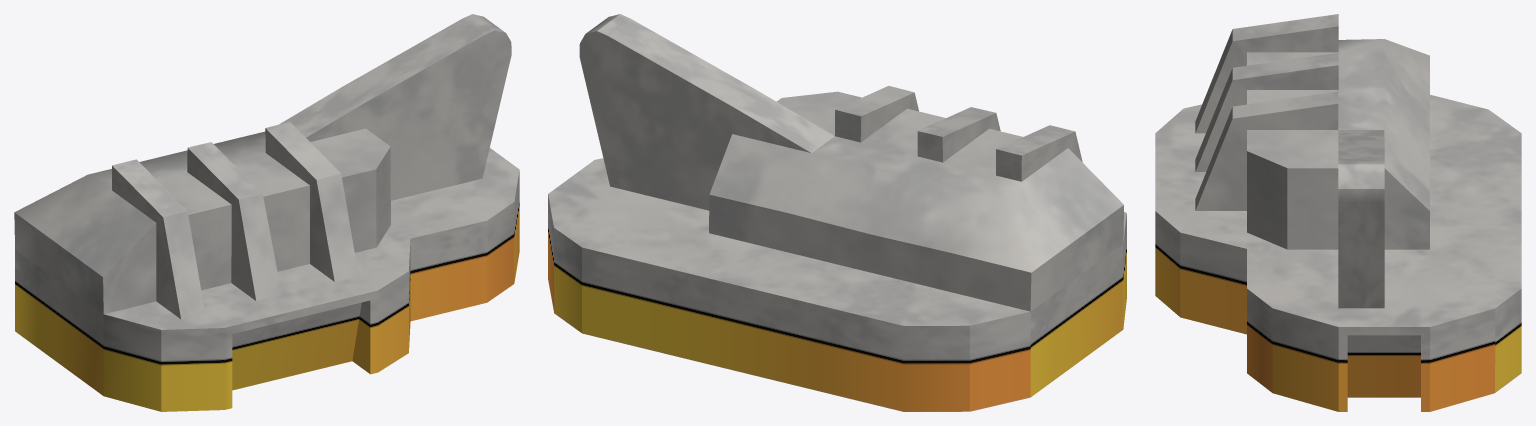
Rendered from Command.fbx.
3 views of the same model, side by side, from view 1: azimuth 30°, elevation 25°; view 2: azimuth 150°, elevation 25°; view 3: azimuth 270°, elevation 25° (orthographic). The views are drawn at different scales.
Parts seen in each view (by area): view 1: Command; view 2: Command; view 3: Command.
Boxes of the visible parts, x1,y1,x2,y2 form: Command: [14, 14, 519, 411]; Command: [548, 14, 1126, 411]; Command: [1155, 14, 1521, 411].
Bounding box in the file's own units: 53 × 24.97 × 35.27.
